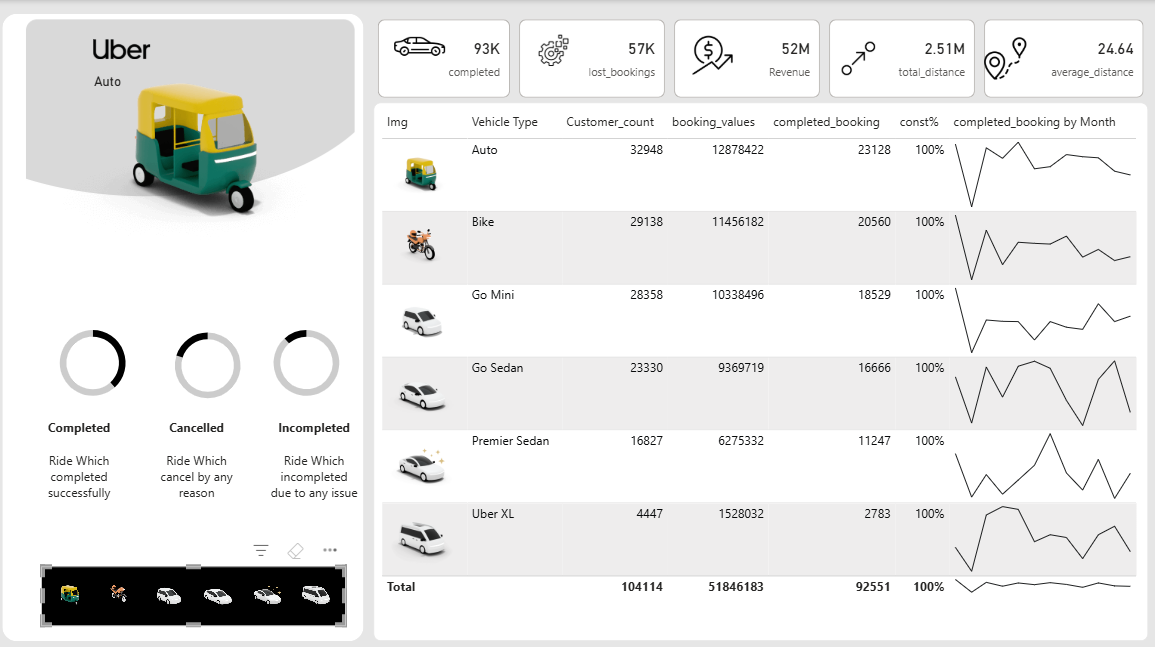

The page's visual inventory and layout, read from the dashboard file:
{"tool":"powerbi","page":{"name":"Vehicle","canvas":[1280,720],"ordinal":2},"visuals":[{"type":"shape","box":[12.3,15.1,396.6,688.9],"z":0},{"type":"image","box":[0,16.5,437.7,348.5],"z":1000},{"type":"image","box":[85.1,38.4,116.6,31.6],"z":2000},{"type":"cardVisual","fields":{"Data":["_Measures.completed_booking"]},"box":[419.9,16.5,155.1,96.1],"z":3000},{"type":"cardVisual","fields":{"Data":["_Measures.lost_bookings"]},"box":[575,16.5,170.2,96.1],"z":4000},{"type":"cardVisual","fields":{"Data":["_Measures.booking_values"]},"box":[745.1,16.5,170.2,96.1],"z":5000},{"type":"cardVisual","fields":{"Data":["_Measures.total_distance"]},"box":[915.3,16.5,170.2,96.1],"z":6000},{"type":"cardVisual","fields":{"Data":["_Measures.average_distance"]},"box":[1085.4,16.5,185.2,96.1],"z":7000},{"type":"advancedSlicerVisual","fields":{"Values":["IMG.Vehicle Type"]},"box":[54.9,621.6,334.8,65.9],"z":8000},{"type":"cardVisual","fields":{"Data":["Min(IMG.Vehicle Type)"]},"box":[96.1,38.4,130.4,94.7],"z":9000},{"type":"cardVisual","fields":{"Data":["Min(IMG.Img)"]},"box":[54.9,0,344.4,269],"z":10000},{"type":"image","box":[929,32.9,46.7,61.7],"z":11000},{"type":"image","box":[1085.4,32.9,56.3,61.7],"z":12000},{"type":"image","box":[595.5,26.1,43.9,57.6],"z":13000},{"type":"image","box":[437.7,16.5,65.9,68.6],"z":14000},{"type":"image","box":[763,32.9,57.6,53.5],"z":15000},{"type":"donutChart","fields":{"Y":["_Measures.booking_count","_Measures.booking_remove_status_filter"]},"box":[61.7,348.5,100.2,100.2],"z":16000},{"type":"donutChart","fields":{"Y":["_Measures.booking_remove_status_filter","_Measures.booking_count"]},"box":[188,351.3,100.2,100.2],"z":17000},{"type":"donutChart","fields":{"Y":["_Measures.booking_remove_status_filter","_Measures.booking_count"]},"box":[296.4,348.5,100.2,100.2],"z":18000},{"type":"textbox","box":[42.5,455.6,108.4,101.5],"z":19000},{"type":"textbox","box":[171.5,455.6,108.4,101.5],"z":20000},{"type":"textbox","box":[300.5,455.6,108.4,101.5],"z":21000},{"type":"tableEx","fields":{"Values":["IMG.Img","IMG.Vehicle Type","_Measures.Customer_count","_Measures.booking_values","_Measures.completed_booking","_Measures.const%","SparklineData(_Measures.completed_booking_[Calendar.Date.Variation.Date Hierarchy.Month])"]},"box":[419.9,112.5,850.8,591.4],"z":22000}]}

Visuals, with their boxes in screenshot pixels (x1, y1, x2, y2), scaled from the page's 1280x720 canvas onto the 1155x647 screenshot:
shape: x1=11, y1=14, x2=369, y2=633
image: x1=0, y1=15, x2=395, y2=328
image: x1=77, y1=35, x2=182, y2=63
cardVisual - _Measures.completed_booking: x1=379, y1=15, x2=519, y2=101
cardVisual - _Measures.lost_bookings: x1=519, y1=15, x2=672, y2=101
cardVisual - _Measures.booking_values: x1=672, y1=15, x2=826, y2=101
cardVisual - _Measures.total_distance: x1=826, y1=15, x2=979, y2=101
cardVisual - _Measures.average_distance: x1=979, y1=15, x2=1147, y2=101
advancedSlicerVisual - IMG.Vehicle Type: x1=50, y1=559, x2=352, y2=618
cardVisual - Min(IMG.Vehicle Type): x1=87, y1=35, x2=204, y2=120
cardVisual - Min(IMG.Img): x1=50, y1=0, x2=360, y2=242
image: x1=838, y1=30, x2=880, y2=85
image: x1=979, y1=30, x2=1030, y2=85
image: x1=537, y1=23, x2=577, y2=75
image: x1=395, y1=15, x2=454, y2=76
image: x1=688, y1=30, x2=740, y2=78
donutChart - _Measures.booking_count x _Measures.booking_remove_status_filter: x1=56, y1=313, x2=146, y2=403
donutChart - _Measures.booking_remove_status_filter x _Measures.booking_count: x1=170, y1=316, x2=260, y2=406
donutChart - _Measures.booking_remove_status_filter x _Measures.booking_count: x1=267, y1=313, x2=358, y2=403
textbox: x1=38, y1=409, x2=136, y2=501
textbox: x1=155, y1=409, x2=253, y2=501
textbox: x1=271, y1=409, x2=369, y2=501
tableEx - IMG.Img x IMG.Vehicle Type: x1=379, y1=101, x2=1147, y2=633
